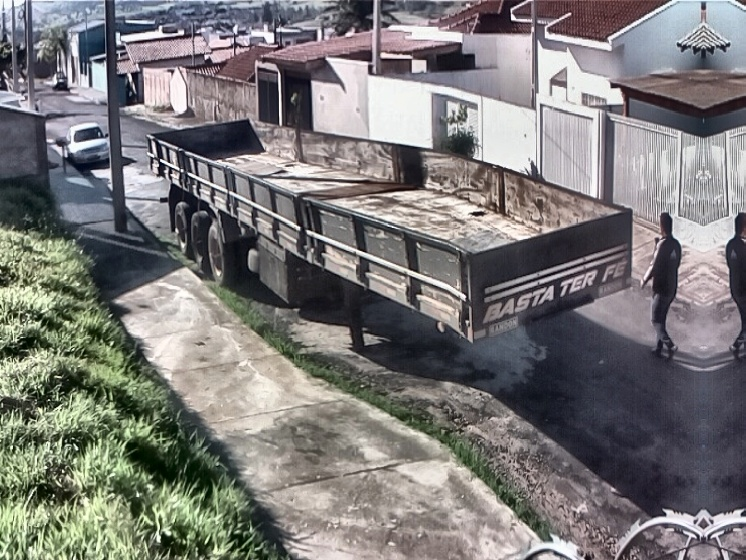person: (639, 210, 682, 360), (725, 212, 746, 361)
